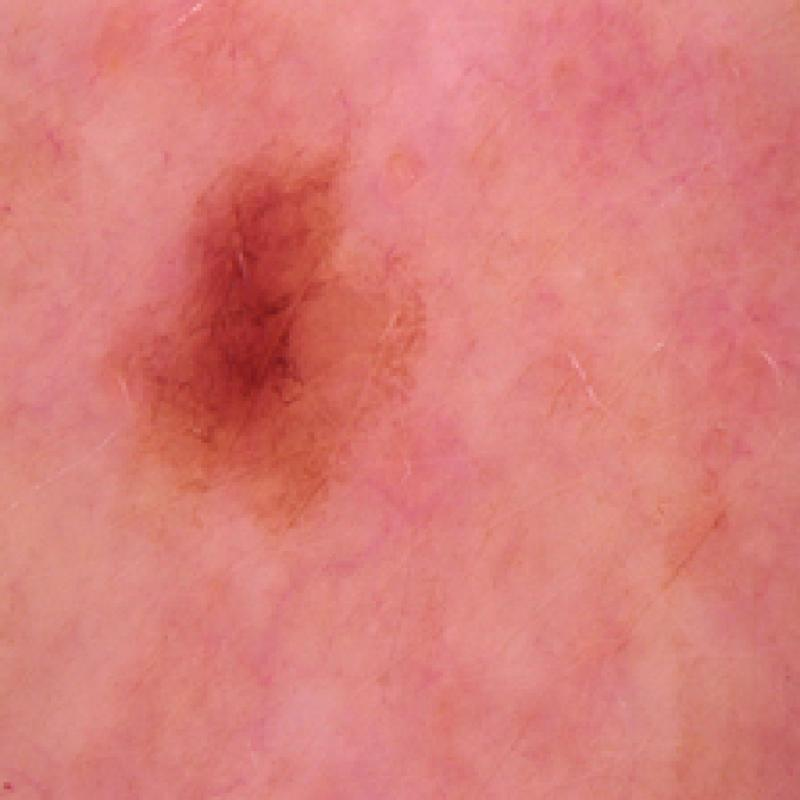benign: (93, 91, 442, 540)
